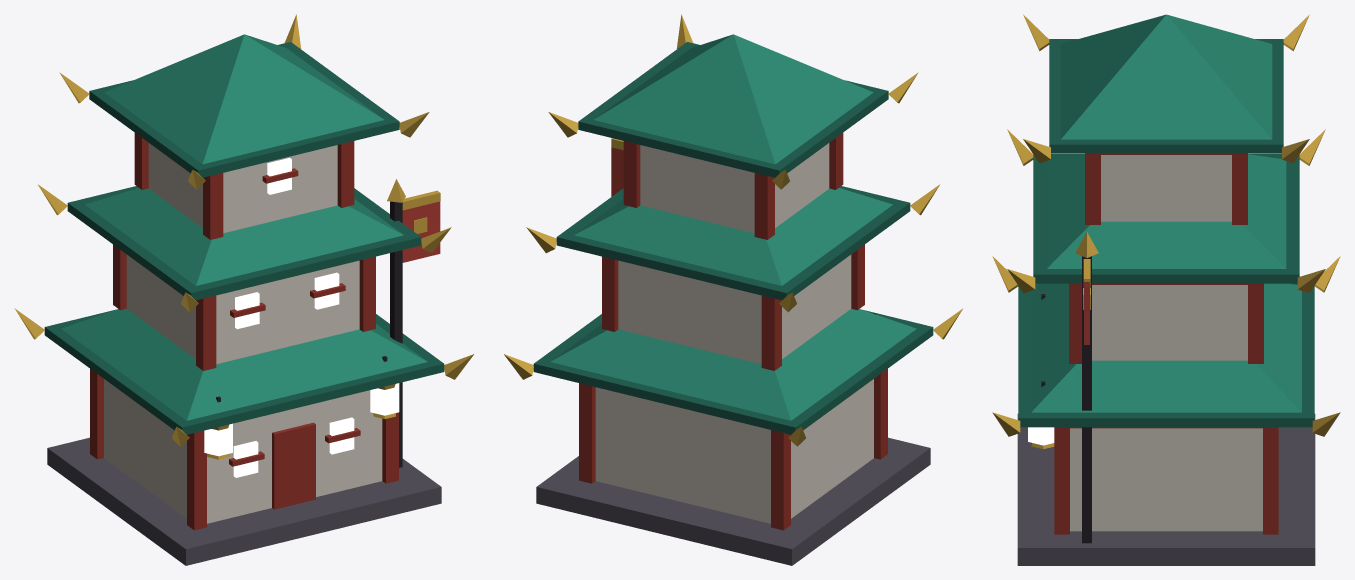
Rendered from house_t4.glb.
3 renders of one model, left to right at view 1: azimuth 30°, elevation 25°; view 2: azimuth 150°, elevation 25°; view 3: azimuth 270°, elevation 25°, orthographic. The views are drawn at different scales.
Parts seen in each view (by area): view 1: body, glow; view 2: body; view 3: body, glow.
Boxes of the visible parts, left/top/right/bottom form: body: left=14, top=14, right=473, bottom=565; glow: left=204, top=157, right=399, bottom=477; body: left=504, top=14, right=963, bottom=565; body: left=992, top=14, right=1340, bottom=565; glow: left=1028, top=427, right=1054, bottom=445.
Size of the model in its own units: 1.92 by 2.69 by 1.76.
